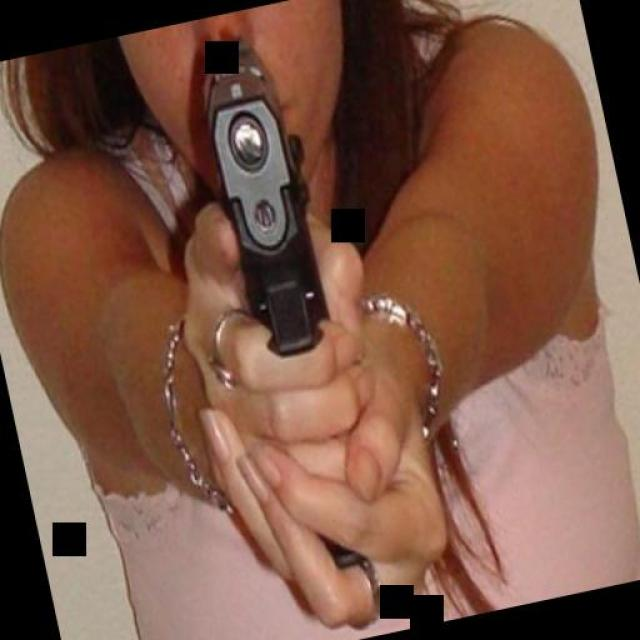gun: (185, 29, 346, 371)
